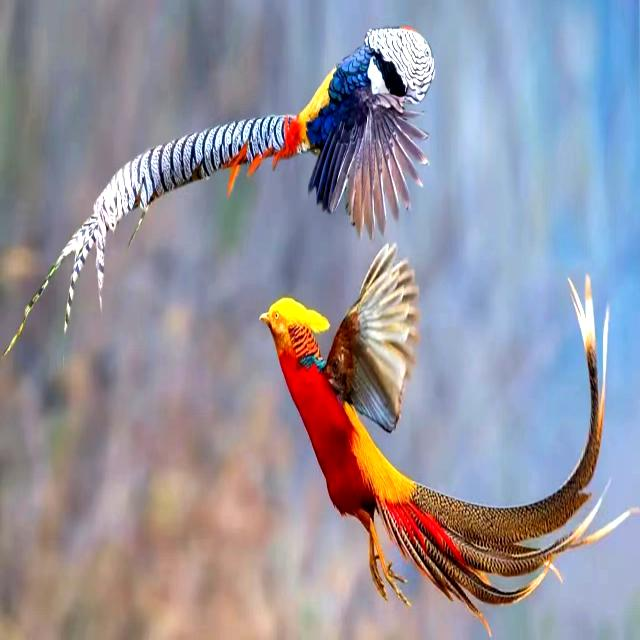Chrysolophus amherstiae: (56, 116, 295, 329)
Chrysolophus pictus feather: (384, 300, 606, 611)
